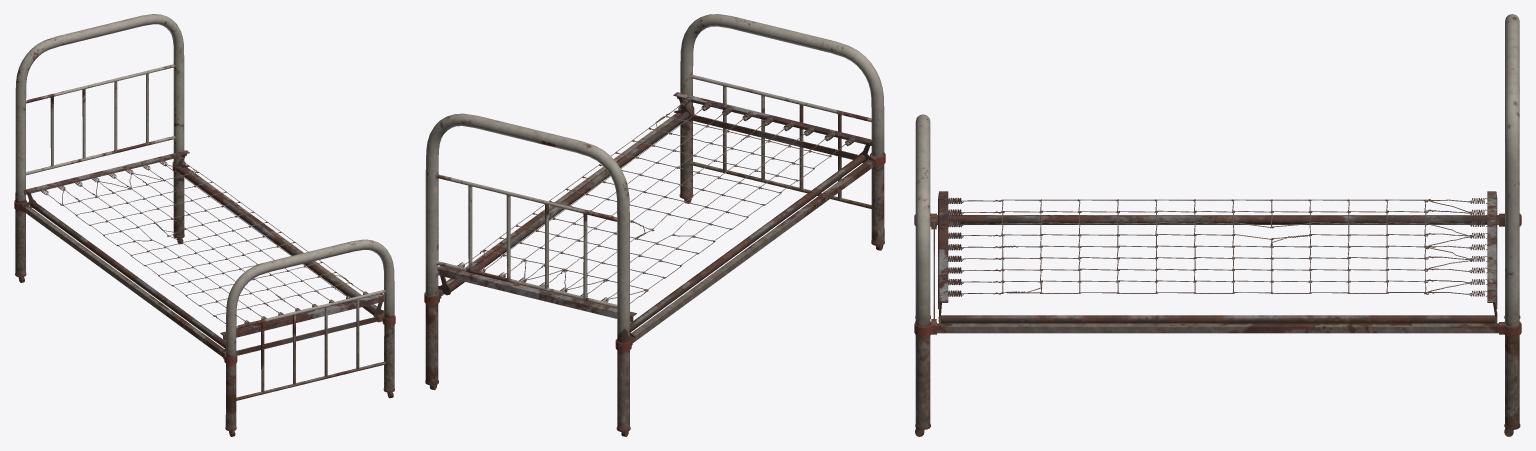
File: old_bed_frame.glb
3 renders of one model, left to right at view 1: azimuth 30°, elevation 25°; view 2: azimuth 150°, elevation 25°; view 3: azimuth 270°, elevation 25°, orthographic. The views are drawn at different scales.
Parts seen in each view (by area): view 1: old_bed_frame; view 2: old_bed_frame; view 3: old_bed_frame.
Boxes of the visible parts, <box> form: old_bed_frame: <box>14,14,395,436</box>; old_bed_frame: <box>424,14,885,436</box>; old_bed_frame: <box>914,14,1521,436</box>.
Size of the model in its own units: 0.9047 by 1.2 by 2.
1 material, 1 textured.
